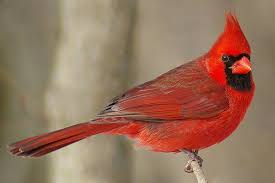bird: (79, 25, 254, 156)
